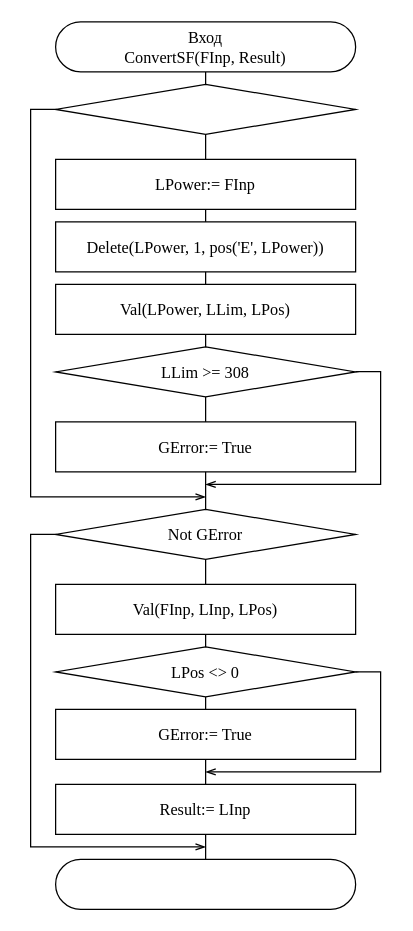
Some shapes in this 413 by 931 pixel diagram are drawn without their labels. The centre of each missing label's shape, as x and y in pixels:
(Pos('E', FInp) > 0): [205,108]
Выход ConvertSF(FInp, Result): [205,883]
